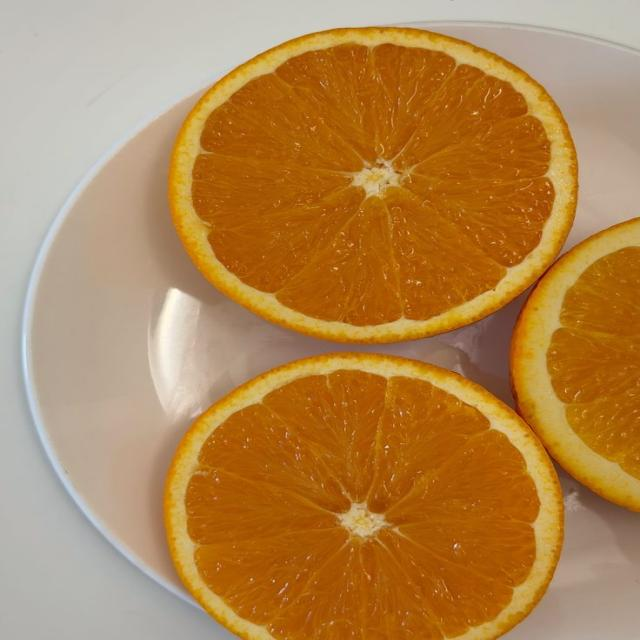orange: (170, 28, 577, 342), (165, 354, 562, 639), (511, 218, 639, 510)
